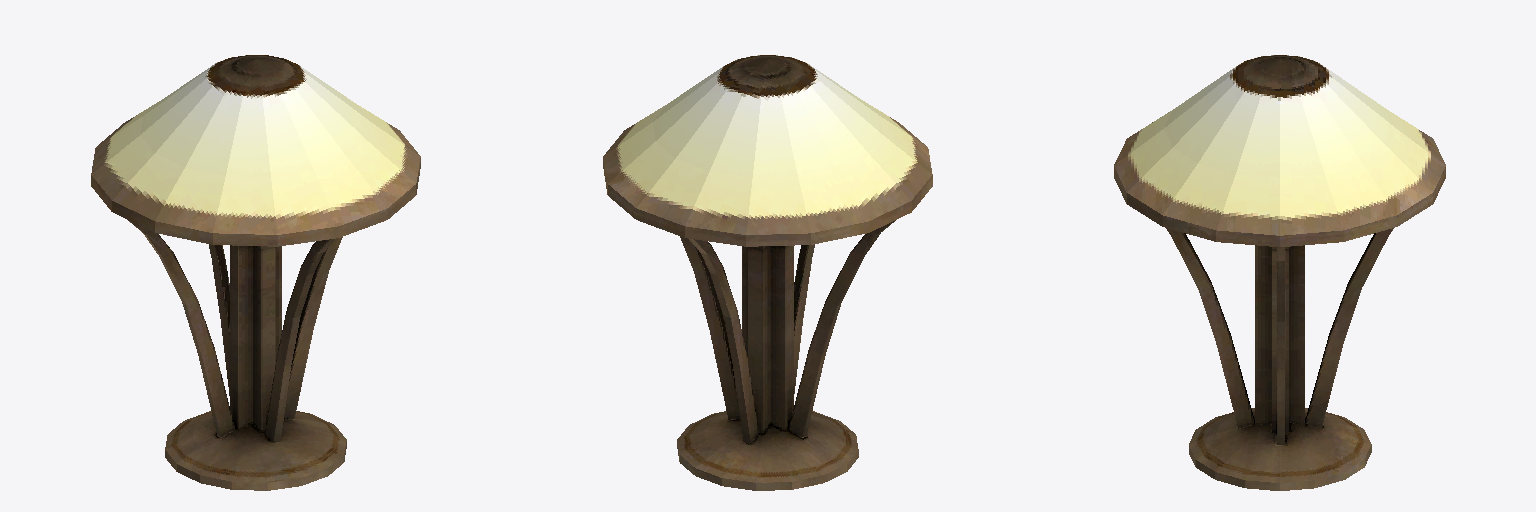
3 views of the same model, side by side, from view 1: azimuth 30°, elevation 25°; view 2: azimuth 150°, elevation 25°; view 3: azimuth 270°, elevation 25° (orthographic).
Parts seen in each view (by area): view 1: light_desk; view 2: light_desk; view 3: light_desk.
Part boxes in pixels (x1,y1,x2,y2): light_desk: (91, 55, 420, 490); light_desk: (603, 55, 932, 490); light_desk: (1114, 55, 1445, 490).
Bounding box in the file's own units: 40 × 52.25 × 40.
Materials: 1 (1 with a texture image).